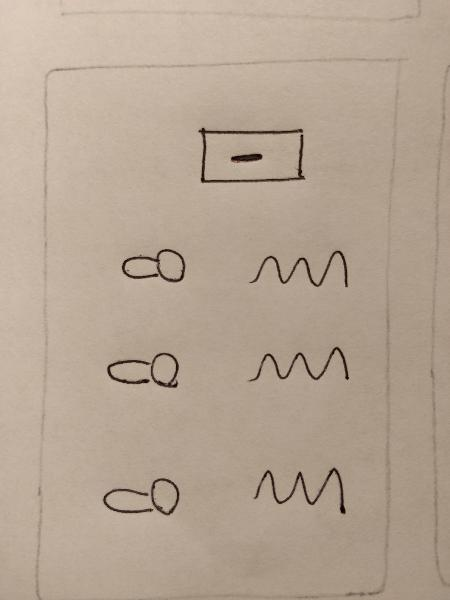button: (188, 119, 319, 196)
switch: (106, 237, 203, 300), (96, 466, 187, 532), (101, 344, 190, 399)
text: (237, 455, 359, 526), (237, 336, 359, 397), (233, 237, 359, 296)
